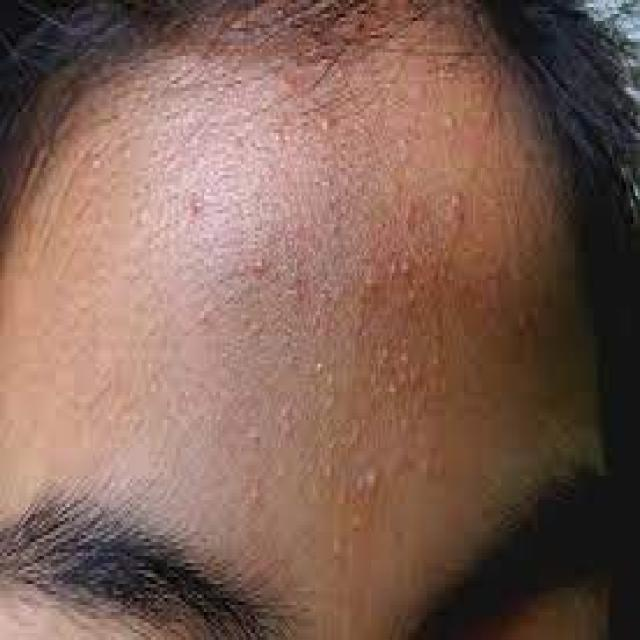fungal: (156, 89, 514, 562)
